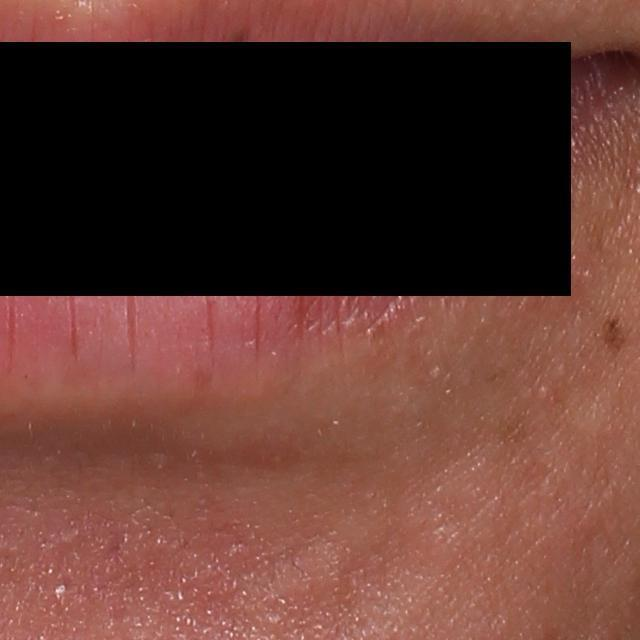nevus: (213, 13, 267, 55), (599, 310, 629, 359)
